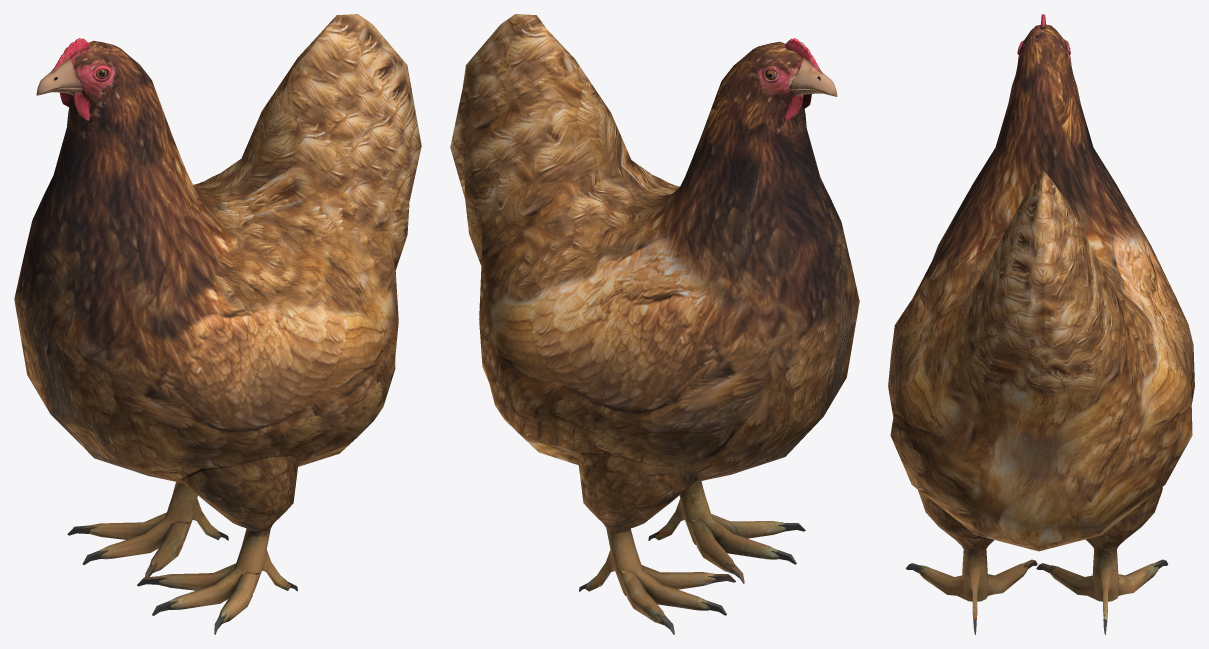
File: chicken.glb
3 views of the same model, side by side, from view 1: azimuth 30°, elevation 25°; view 2: azimuth 150°, elevation 25°; view 3: azimuth 270°, elevation 25° (orthographic). The views are drawn at different scales.
Visible parts, largest first — view 1: hen.001; view 2: hen.001; view 3: hen.001.
Boxes of the visible parts, x1,y1,x2,y2 form: hen.001: (14,14,421,634); hen.001: (450,14,859,634); hen.001: (888,14,1194,634).
Size of the model in its own units: 0.3405 by 0.4812 by 0.2493.
Materials: 1 (1 with a texture image).
